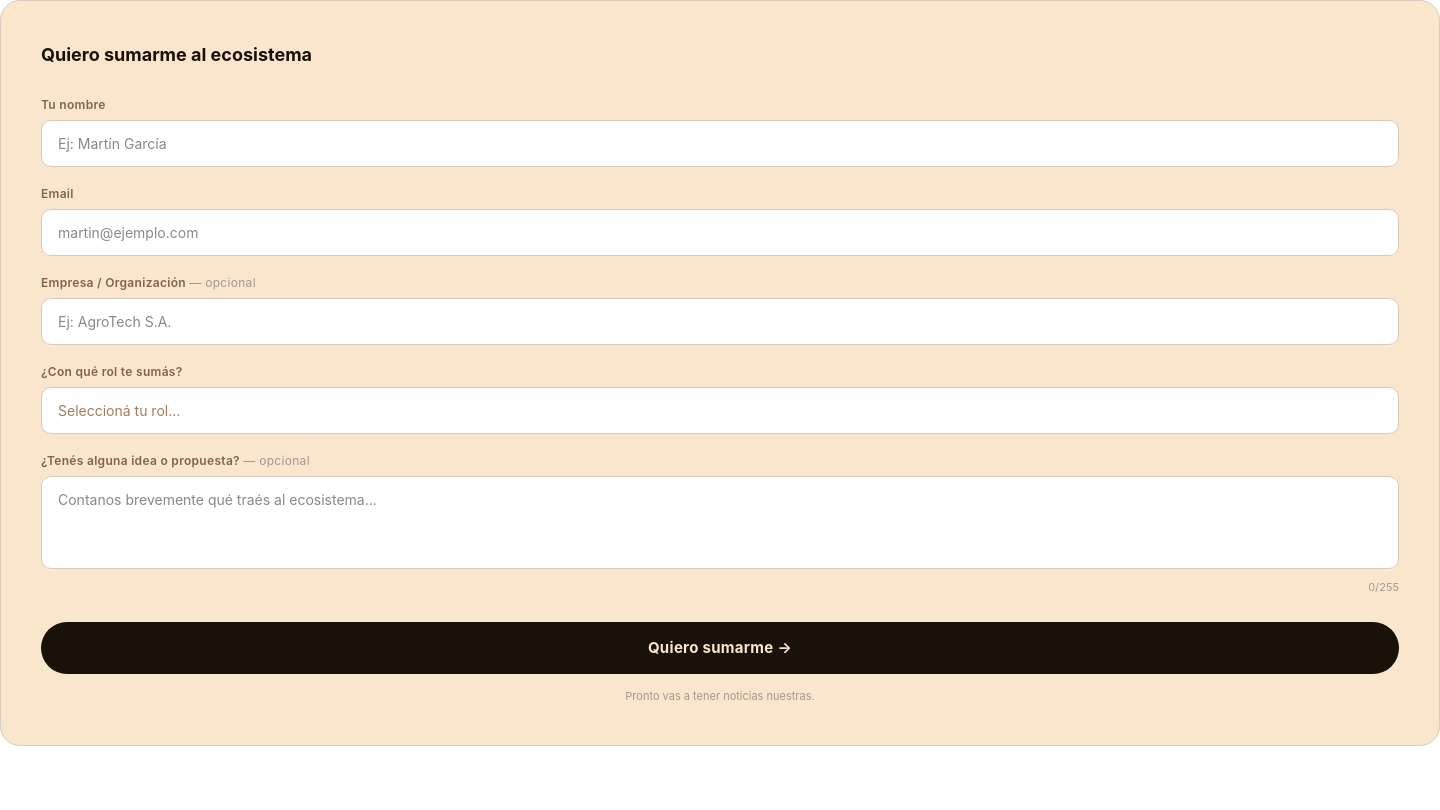
Test: SumateForm › muestra el campo de rol personalizado al seleccionar Otro
Select "Otro" in the dropdown at (720, 410), box [41,387,1399,434]
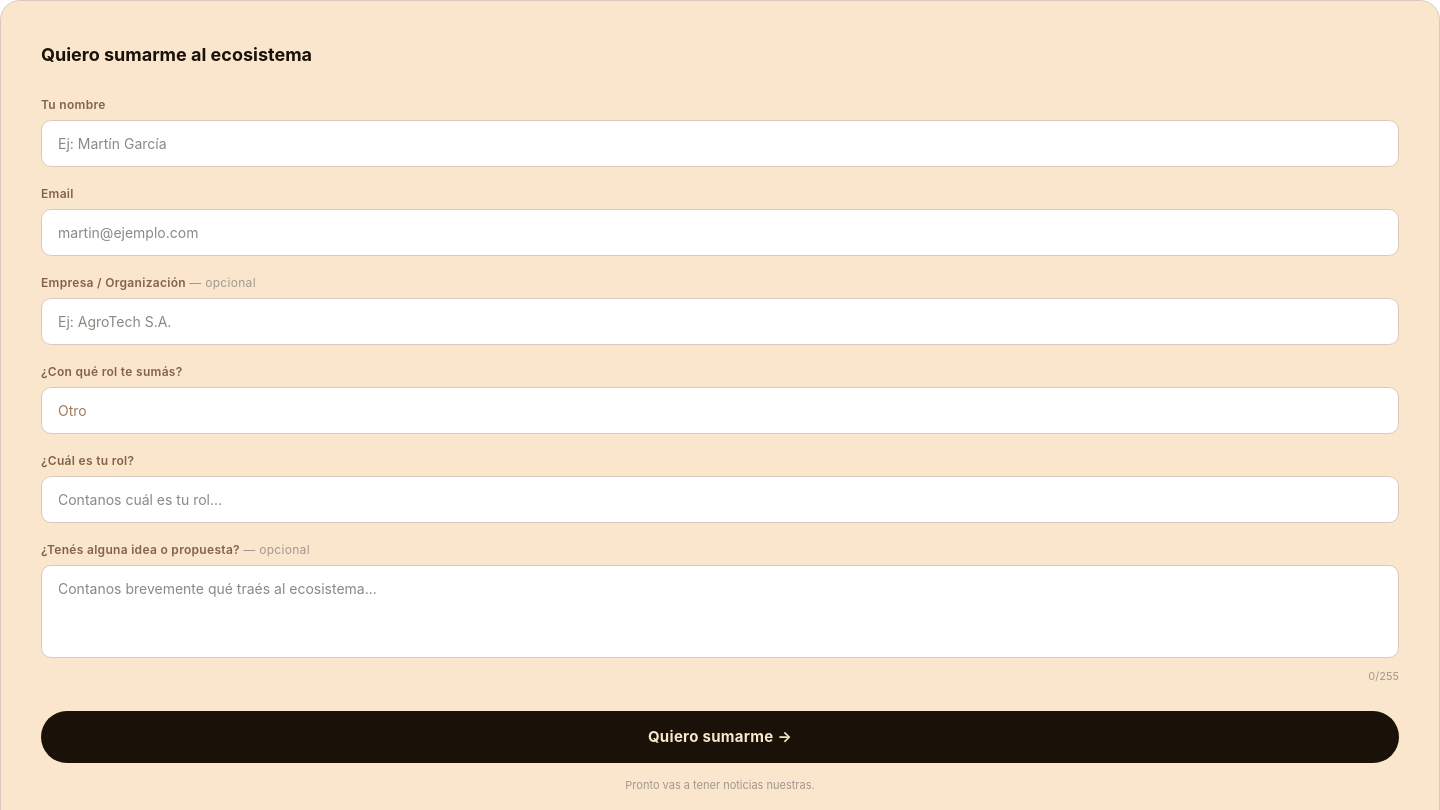
expect the field with placeholder "Contanos cuál es tu rol..." is shown: met, box [41,476,1399,523]
